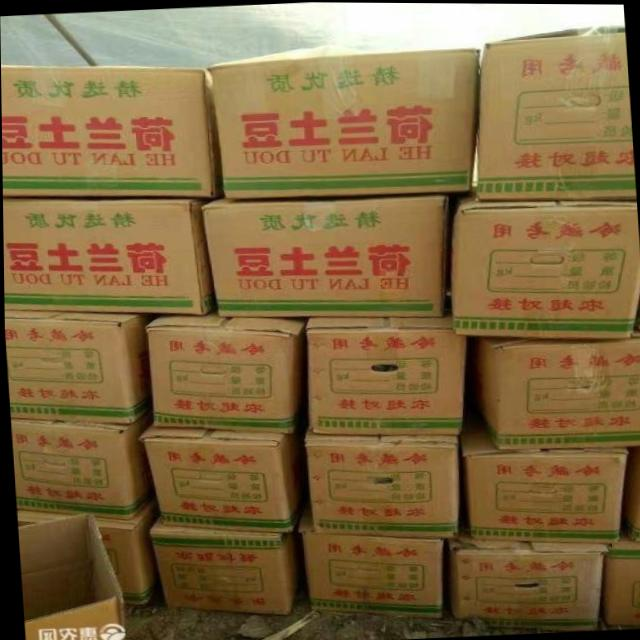box: (210, 45, 479, 199), (204, 191, 454, 317), (477, 27, 636, 203), (453, 190, 640, 339), (1, 67, 214, 197), (2, 198, 215, 317), (468, 315, 640, 448), (460, 404, 624, 542), (144, 305, 307, 432), (307, 316, 472, 434), (296, 501, 447, 620), (141, 426, 307, 532), (4, 311, 151, 423), (302, 434, 459, 538), (11, 409, 153, 520), (447, 539, 609, 627), (148, 524, 301, 614), (20, 513, 127, 640), (93, 501, 159, 602), (597, 541, 640, 628), (622, 443, 640, 540)
